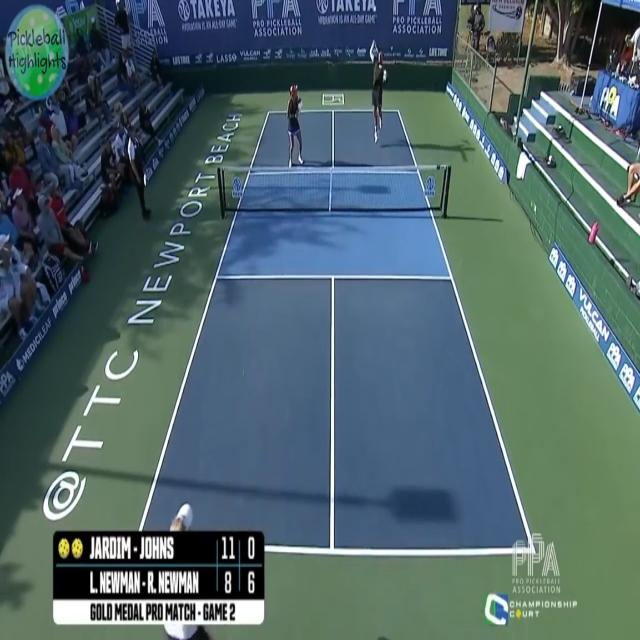Court: (136, 112, 532, 548)
